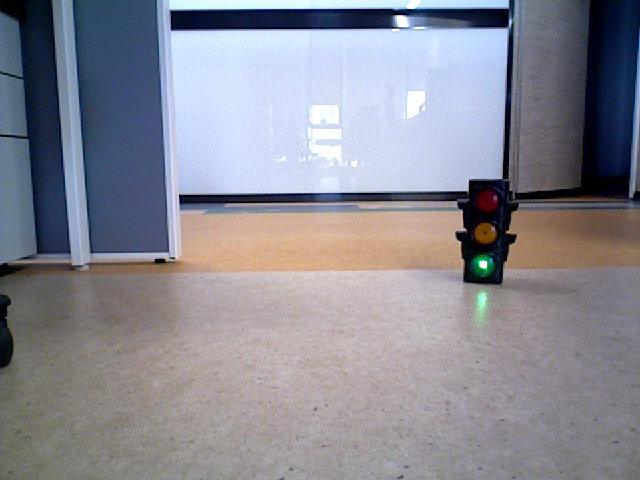green: (463, 182, 502, 276)
